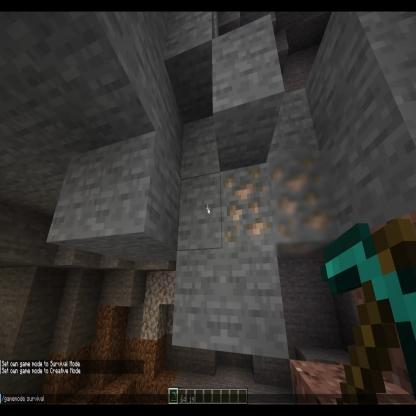iron ore: (273, 152, 335, 258), (219, 158, 275, 249)
